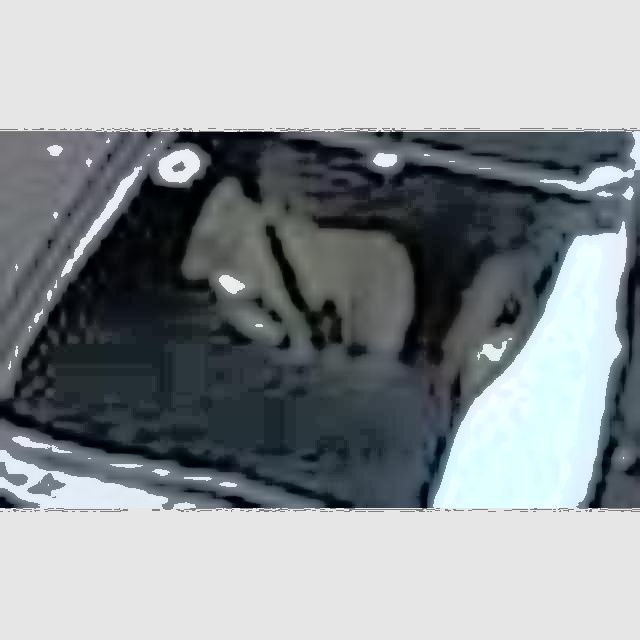pakai: (198, 178, 409, 389)
